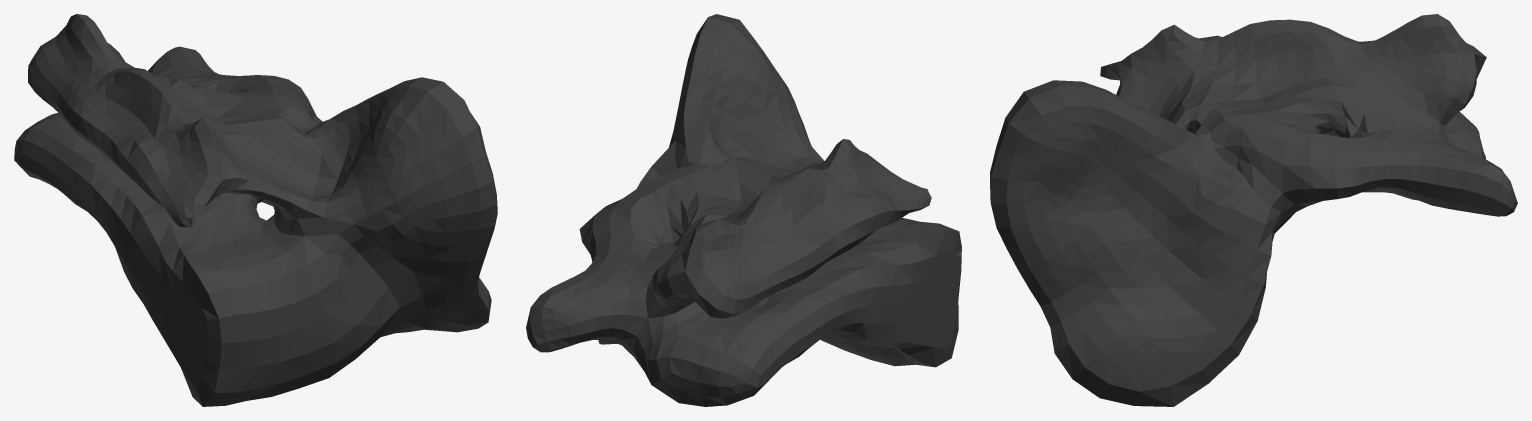
Rendered from Sacrum.glb.
The picture shows the model from 3 angles, left to right: view 1: azimuth 30°, elevation 25°; view 2: azimuth 150°, elevation 25°; view 3: azimuth 270°, elevation 25°; orthographic projection. The views are drawn at different scales.
Parts seen in each view (by area): view 1: Sacrum; view 2: Sacrum; view 3: Sacrum.
Part boxes in pixels (box(x1,y1,x2,y2)): Sacrum: box(14, 14, 497, 406); Sacrum: box(526, 14, 961, 406); Sacrum: box(990, 14, 1517, 406).
Bounding box in the file's own units: 0.00961 × 0.0087 × 0.014.
1 material, 1 textured.
